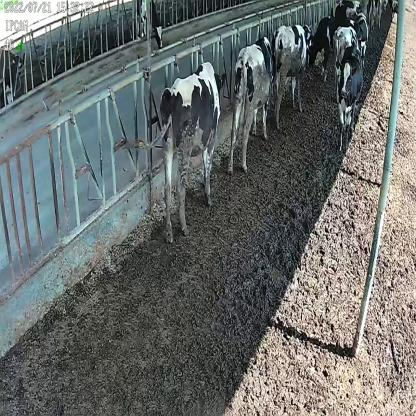cow: (133, 60, 227, 244), (226, 35, 274, 178), (271, 24, 313, 127), (333, 45, 364, 149)
